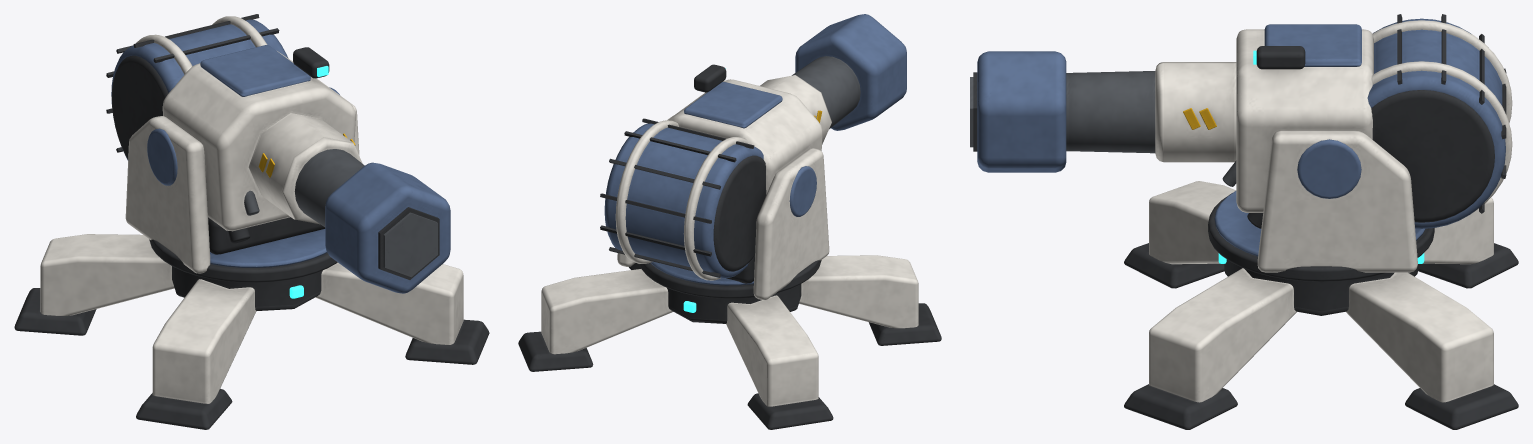
Rendered from mule_polar_ceramic.glb.
The picture shows the model from 3 angles, left to right: view 1: azimuth 30°, elevation 25°; view 2: azimuth 150°, elevation 25°; view 3: azimuth 270°, elevation 25°; orthographic projection. The views are drawn at different scales.
Visible parts, largest first — view 1: Mule_Head, Mule_Base; view 2: Mule_Head, Mule_Base; view 3: Mule_Head, Mule_Base.
Part boxes in pixels (x1,y1,x2,y2): Mule_Head: (106,14,450,293); Mule_Base: (14,229,489,429); Mule_Head: (600,14,906,299); Mule_Base: (518,255,941,429); Mule_Head: (970,14,1512,272); Mule_Base: (1124,181,1518,429).
Bounding box in the file's own units: 2.77 × 2.11 × 3.39.
6 materials, 5 textured.
